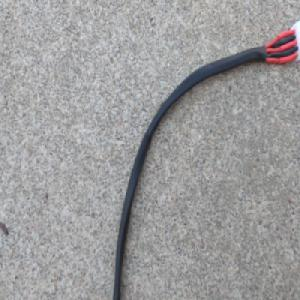Wire: (109, 21, 300, 300)
